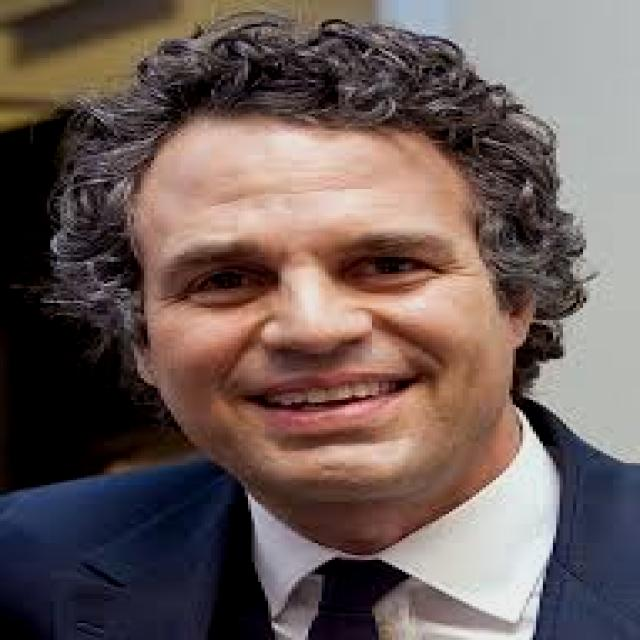normal_face: (62, 65, 537, 519)
